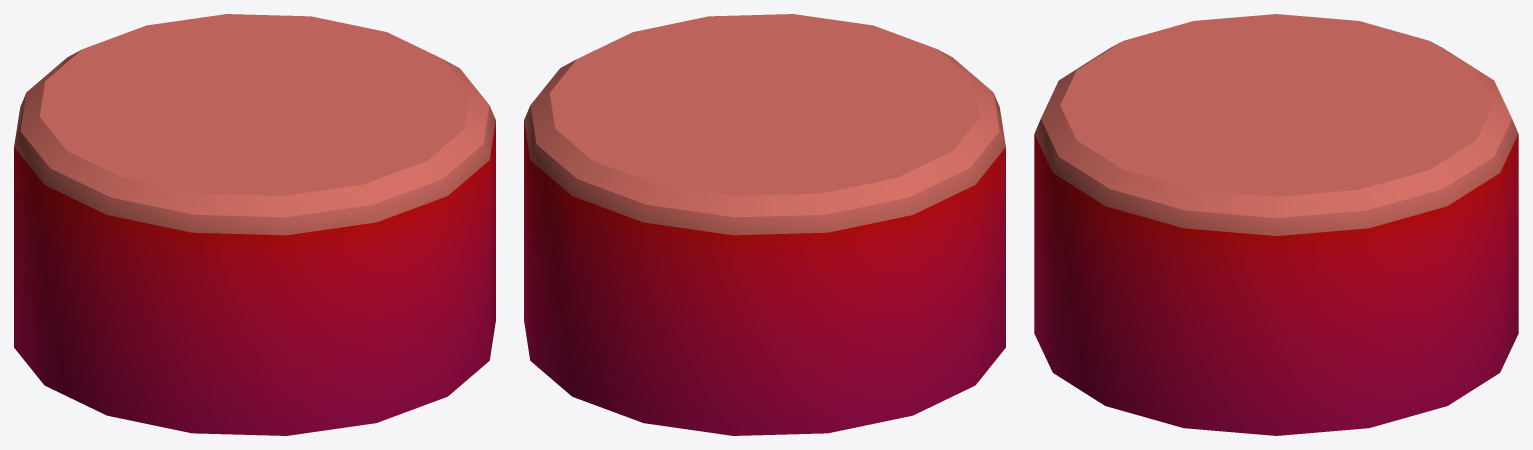
The model's file is button.glb.
3 renders of one model, left to right at view 1: azimuth 30°, elevation 25°; view 2: azimuth 150°, elevation 25°; view 3: azimuth 270°, elevation 25°, orthographic.
Visible parts, largest first — view 1: button; view 2: button; view 3: button.
Boxes of the visible parts, x1=… form: button: x1=14, y1=14, x2=495, y2=435; button: x1=524, y1=14, x2=1005, y2=435; button: x1=1034, y1=14, x2=1518, y2=435.
Bounding box in the file's own units: 1.81 × 0.942 × 1.81.
